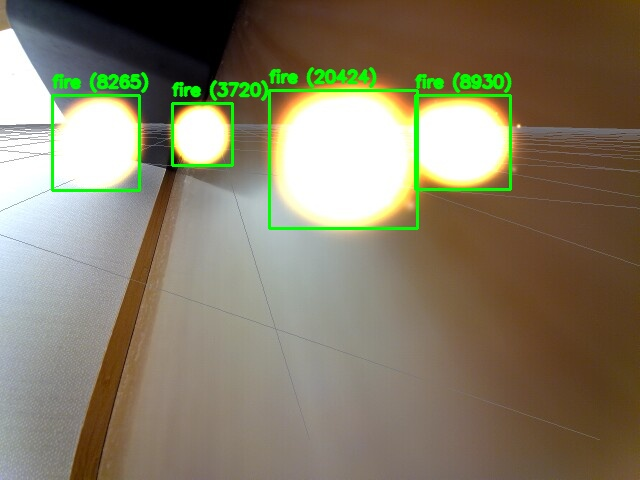fire: (269, 90, 417, 228), (415, 95, 510, 189), (52, 95, 139, 190), (172, 103, 232, 165)
